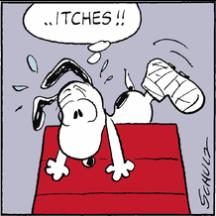snoopy: (31, 56, 208, 182)
